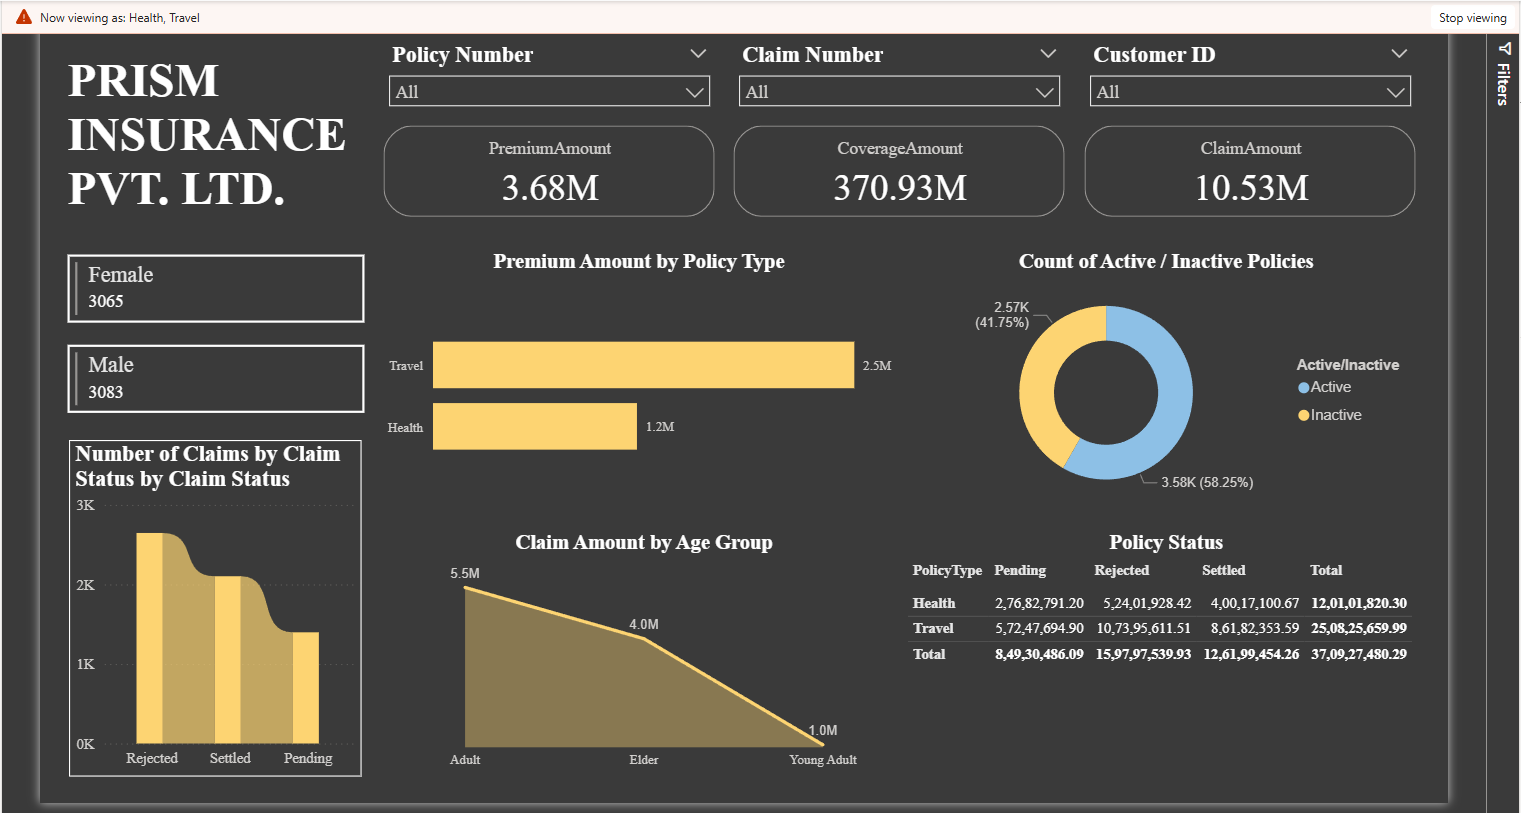

The dashboard page shown, as its layout file describes it:
{"tool":"powerbi","page":{"name":"Overview","canvas":[1280,720],"ordinal":0},"visuals":[{"type":"slicer","fields":{"Values":["InsuranceData.PolicyNumber"]},"box":[307.3,23.6,311.8,75.5],"z":0},{"type":"slicer","fields":{"Values":["InsuranceData.ClaimNumber"]},"box":[625.5,23.6,311.8,75.5],"z":1000},{"type":"slicer","fields":{"Values":["InsuranceData.CustomerID"]},"box":[944.5,23.6,311.8,75.5],"z":2000},{"type":"textbox","box":[20,33.6,280,159.1],"z":3000},{"type":"cardVisual","fields":{"Data":["Sum(InsuranceData.PremiumAmount)"]},"box":[307.3,99.1,311.8,93.6],"z":4000},{"type":"cardVisual","fields":{"Data":["Sum(InsuranceData.CoverageAmount)"]},"box":[625.5,99.1,311.8,93.6],"z":5000},{"type":"cardVisual","fields":{"Data":["Sum(InsuranceData.ClaimAmount)"]},"box":[944.5,99.1,311.8,93.6],"z":6000},{"type":"multiRowCard","fields":{"Values":["InsuranceData.Gender","CountNonNull(InsuranceData.Gender)"]},"box":[20,216.4,280,173.6],"z":7000},{"type":"ribbonChart","title":"Number of Claims by Claim Status by Claim Status","fields":{"Category":["InsuranceData.ClaimStatus"],"Y":["CountNonNull(InsuranceData.ClaimStatus)"]},"box":[26.6,390.1,266,305.9],"z":8000},{"type":"barChart","title":"Premium Amount by Policy Type","fields":{"Category":["InsuranceData.PolicyType"],"Y":["Sum(InsuranceData.PremiumAmount)"]},"box":[307.3,216.4,474.5,240],"z":9000},{"type":"lineChart","title":"Claim Amount by Age Group","fields":{"Category":["InsuranceData.Age Group"],"Y":["Sum(InsuranceData.ClaimAmount)"]},"box":[316.4,471.8,465.5,224.5],"z":10000},{"type":"donutChart","title":"Count of Active / Inactive Policies","fields":{"Category":["InsuranceData.Active/Inactive"],"Y":["CountNonNull(InsuranceData.Active/Inactive)"]},"box":[790.9,216.4,465.5,240.3],"z":11000},{"type":"pivotTable","title":"Policy Status","fields":{"Values":["Sum(InsuranceData.CoverageAmount)"],"Rows":["InsuranceData.PolicyType"],"Columns":["InsuranceData.ClaimStatus"]},"box":[783.8,471.7,480.6,225.2],"z":12000}]}

Visuals, with their boxes on the page's 1280x720 design canvas (x1, y1, x2, y2). These are canvas units, not pixel positions in the 1521x813 screenshot, which may show the page scaled, cropped or inside an application window:
slicer - InsuranceData.PolicyNumber: [left=307, top=24, right=619, bottom=99]
slicer - InsuranceData.ClaimNumber: [left=626, top=24, right=937, bottom=99]
slicer - InsuranceData.CustomerID: [left=944, top=24, right=1256, bottom=99]
textbox: [left=20, top=34, right=300, bottom=193]
cardVisual - Sum(InsuranceData.PremiumAmount): [left=307, top=99, right=619, bottom=193]
cardVisual - Sum(InsuranceData.CoverageAmount): [left=626, top=99, right=937, bottom=193]
cardVisual - Sum(InsuranceData.ClaimAmount): [left=944, top=99, right=1256, bottom=193]
multiRowCard - InsuranceData.Gender x CountNonNull(InsuranceData.Gender): [left=20, top=216, right=300, bottom=390]
"Number of Claims by Claim Status by Claim Status" ribbonChart: [left=27, top=390, right=293, bottom=696]
"Premium Amount by Policy Type" barChart: [left=307, top=216, right=782, bottom=456]
"Claim Amount by Age Group" lineChart: [left=316, top=472, right=782, bottom=696]
"Count of Active / Inactive Policies" donutChart: [left=791, top=216, right=1256, bottom=457]
"Policy Status" pivotTable: [left=784, top=472, right=1264, bottom=697]
